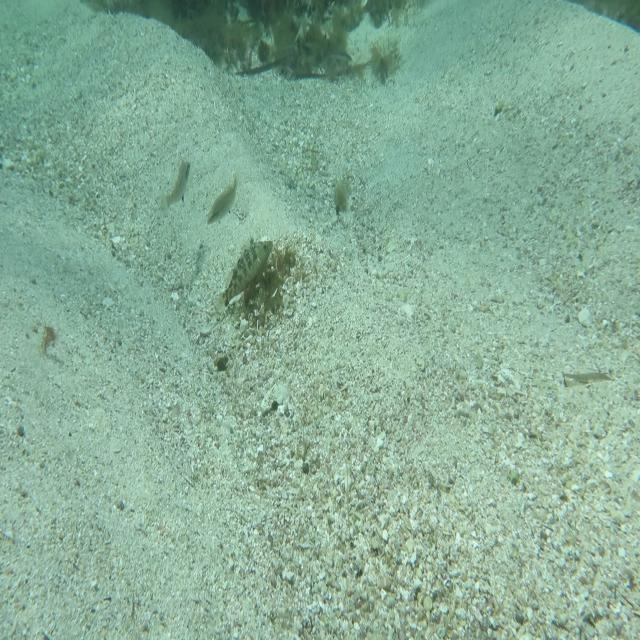ROLL: (208, 228, 276, 322)
female: (205, 164, 241, 232), (156, 156, 192, 214)
nest: (240, 236, 298, 324)
vegetation: (158, 0, 348, 52), (331, 173, 352, 223), (40, 322, 57, 361)
